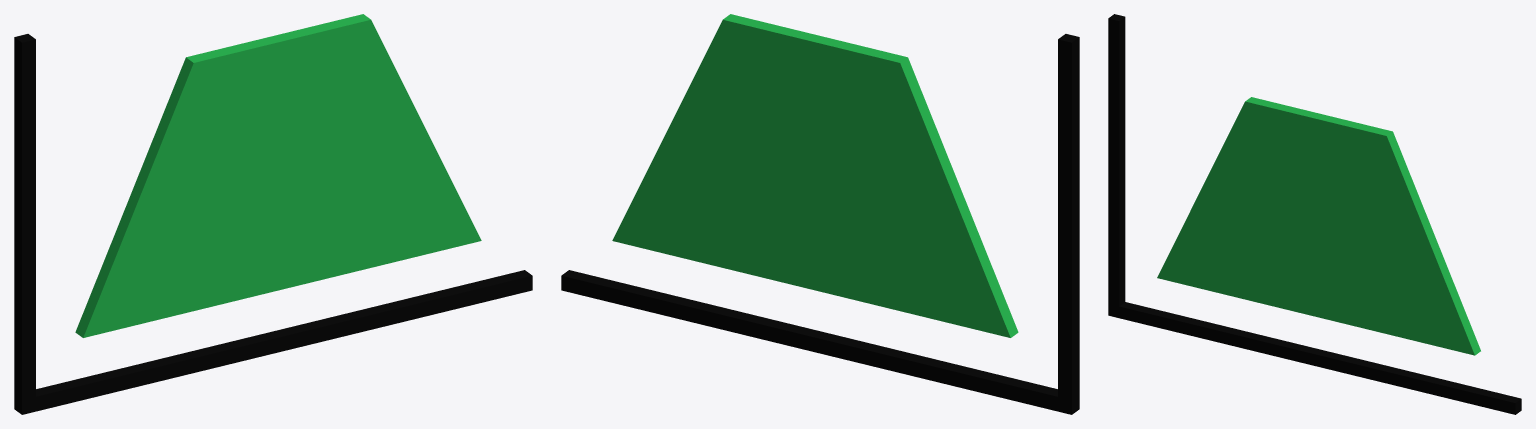
File: trapecio.gltf
3 renders of one model, left to right at view 1: azimuth 30°, elevation 25°; view 2: azimuth 150°, elevation 25°; view 3: azimuth 330°, elevation 25°, orthographic. The views are drawn at different scales.
Bounding box in the file's own units: 0.0861 × 0.06 × 0.00228.
